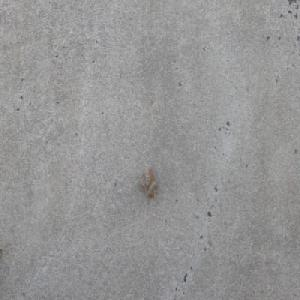Rock: (136, 164, 157, 200)
